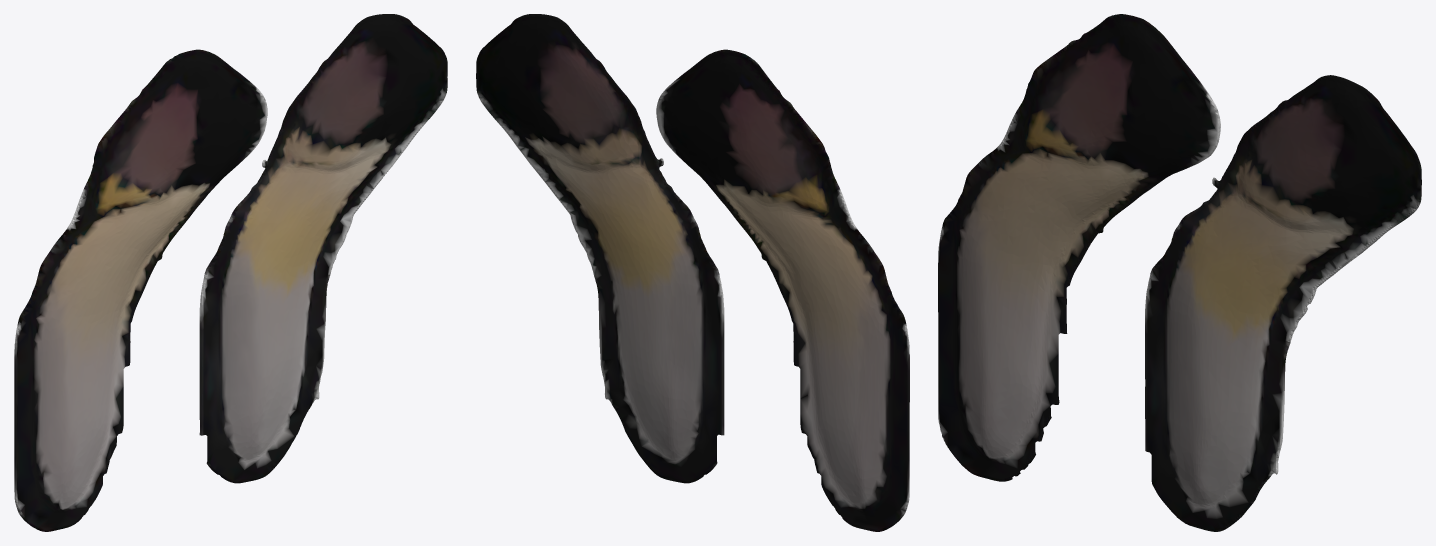
The model's file is lev_boots.glb.
The picture shows the model from 3 angles, left to right: view 1: azimuth 30°, elevation 25°; view 2: azimuth 150°, elevation 25°; view 3: azimuth 330°, elevation 25°; orthographic projection. The views are drawn at different scales.
Parts seen in each view (by area): view 1: geometry_0; view 2: geometry_0; view 3: geometry_0.
Boxes of the visible parts, left/top/right/bottom form: geometry_0: left=14, top=14, right=447, bottom=531; geometry_0: left=476, top=14, right=909, bottom=531; geometry_0: left=938, top=14, right=1421, bottom=531.
Bounding box in the file's own units: 0.6344 × 0.625 × 0.0354.
